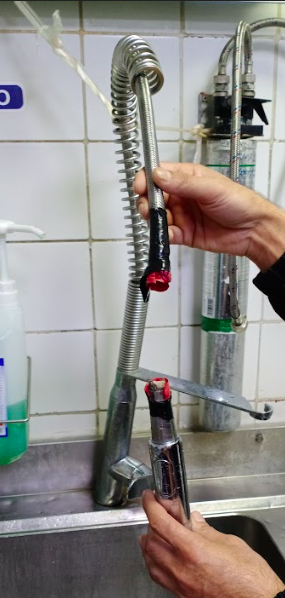Deck Faucet: (55, 31, 280, 524)
